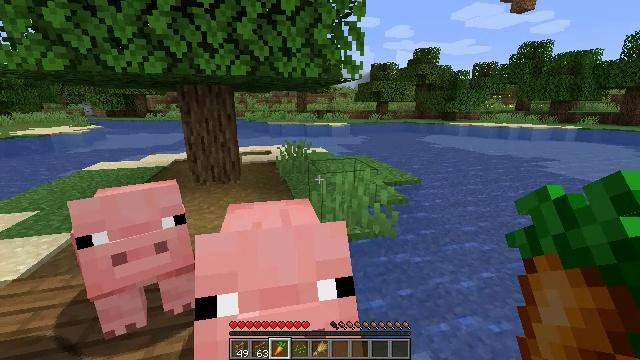pig: (193, 200, 364, 360), (68, 178, 196, 338)
